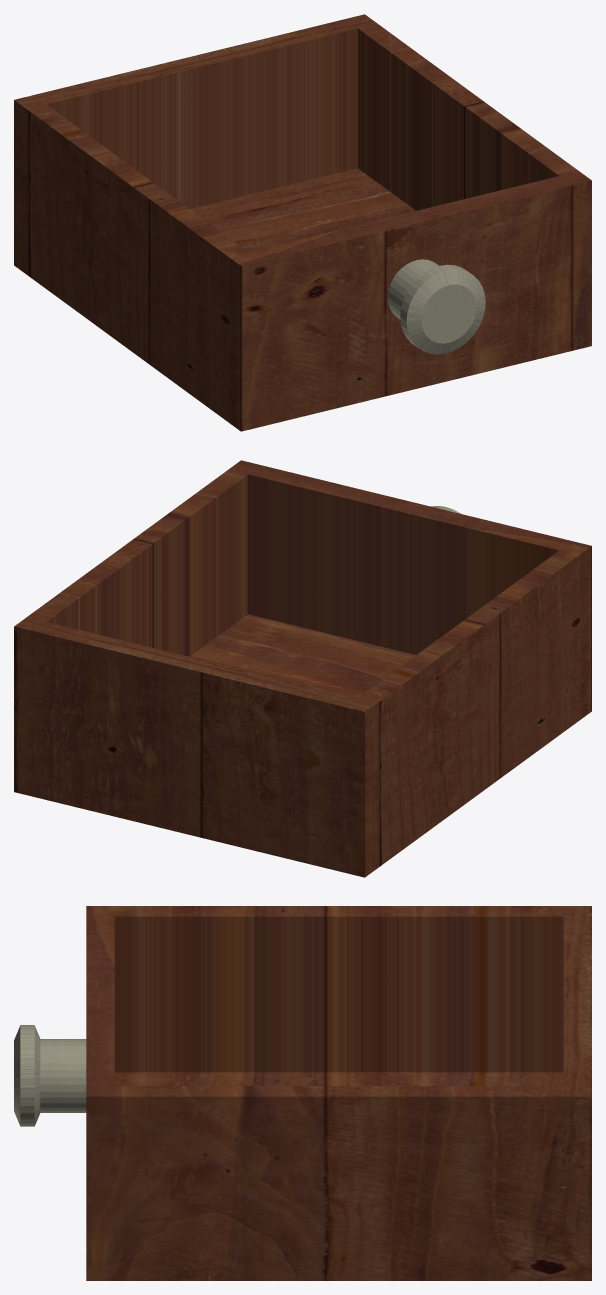
Rendered from raklaci.fbx.
3 views of the same model, one above another, from view 1: azimuth 30°, elevation 25°; view 2: azimuth 150°, elevation 25°; view 3: azimuth 270°, elevation 25° (orthographic). The views are drawn at different scales.
Visible parts, largest first — view 1: Cylinder; view 2: Cylinder; view 3: Cylinder.
Boxes of the visible parts, x1,y1,x2,y2 form: Cylinder: (14,14,591,431); Cylinder: (14,460,591,877); Cylinder: (14,906,591,1280).
Size of the model in its own units: 146 by 65.89 by 187.
